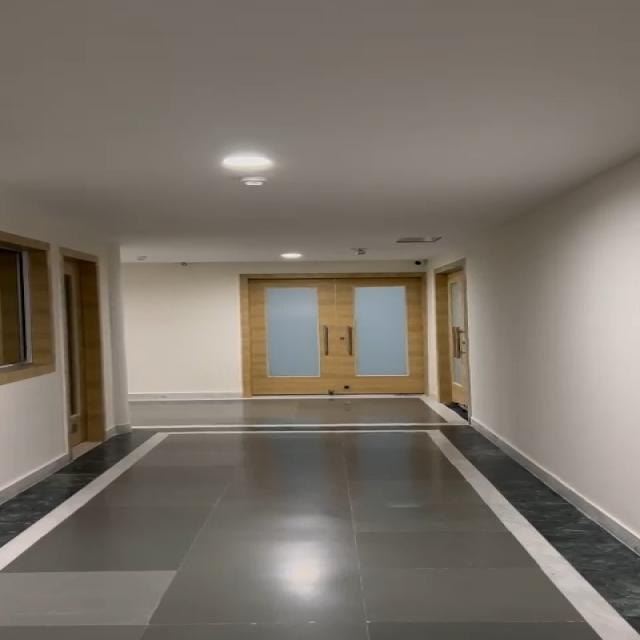door: (251, 261, 471, 408), (70, 240, 106, 453)
floor: (6, 501, 594, 640), (120, 393, 453, 501)
wall: (477, 225, 640, 437), (124, 260, 242, 398), (0, 391, 70, 479)
